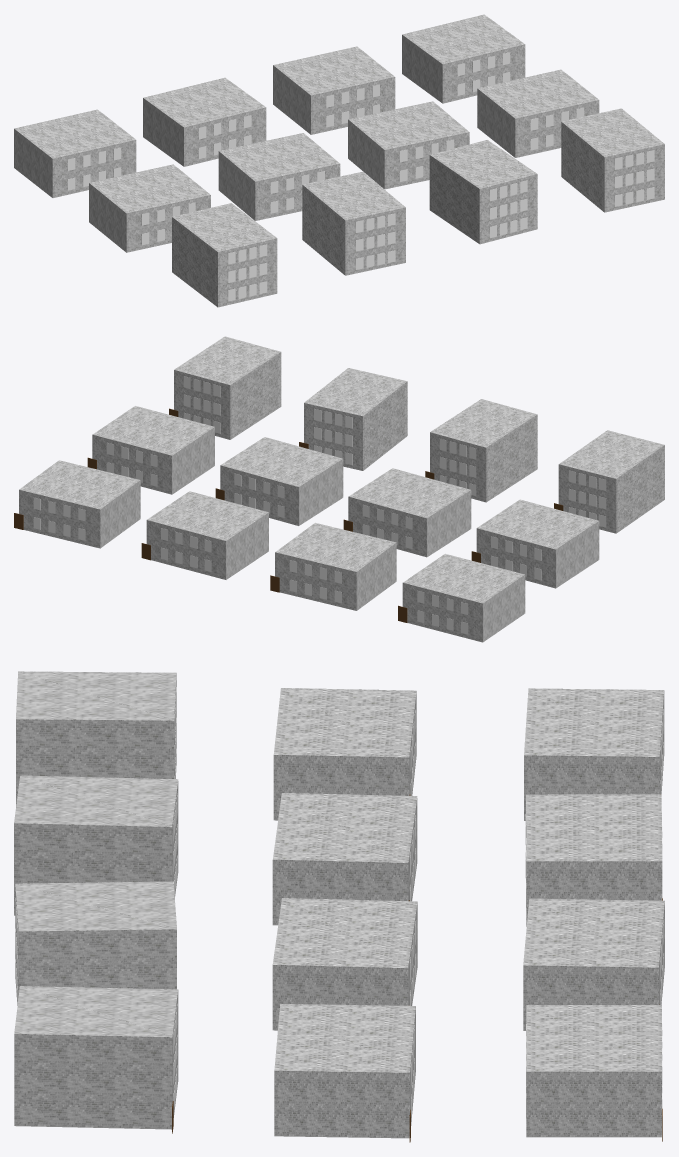
Rendered from bld_mlmr1bsg_cxbd3pn.glb.
3 renders of one model, top to bottom at view 1: azimuth 30°, elevation 25°; view 2: azimuth 150°, elevation 25°; view 3: azimuth 270°, elevation 25°, orthographic. The views are drawn at different scales.
Parts seen in each view (by area): view 1: building-building-1771099703090-13, building-building-1771099703090-11, building-building-1771099703090-14, building-building-1771099703090-12, building-building-1771099703090-4, building-building-1771099703090-2, building-building-1771099703090-1, building-building-1771099703090-3, building-building-1771099703090-9, building-building-1771099703090-7, building-building-1771099703090-6, building-building-1771099703090-8; view 2: building-building-1771099703090-12, building-building-1771099703090-14, building-building-1771099703090-1, building-building-1771099703090-3, building-building-1771099703090-4, building-building-1771099703090-2, building-building-1771099703090-11, building-building-1771099703090-7, building-building-1771099703090-8, building-building-1771099703090-6, building-building-1771099703090-13, building-building-1771099703090-9; view 3: building-building-1771099703090-14, building-building-1771099703090-9, building-building-1771099703090-4, building-building-1771099703090-12, building-building-1771099703090-13, building-building-1771099703090-11, building-building-1771099703090-7, building-building-1771099703090-8, building-building-1771099703090-6, building-building-1771099703090-3, building-building-1771099703090-1, building-building-1771099703090-2.
Boxes of the visible parts, x1,y1,x2,y2 form: building-building-1771099703090-13: (429, 140, 537, 244); building-building-1771099703090-11: (172, 203, 277, 307); building-building-1771099703090-14: (561, 108, 664, 212); building-building-1771099703090-12: (302, 171, 405, 275); building-building-1771099703090-4: (402, 14, 525, 103); building-building-1771099703090-2: (143, 77, 266, 166); building-building-1771099703090-1: (14, 109, 136, 197); building-building-1771099703090-3: (273, 46, 395, 134); building-building-1771099703090-9: (477, 69, 599, 157); building-building-1771099703090-7: (218, 133, 340, 220); building-building-1771099703090-6: (89, 164, 210, 252); building-building-1771099703090-8: (348, 101, 469, 189); building-building-1771099703090-12: (425, 399, 537, 502); building-building-1771099703090-14: (169, 336, 281, 439); building-building-1771099703090-1: (398, 553, 525, 642); building-building-1771099703090-3: (141, 491, 268, 579); building-building-1771099703090-4: (14, 460, 140, 548); building-building-1771099703090-2: (270, 522, 396, 610); building-building-1771099703090-11: (554, 430, 664, 533); building-building-1771099703090-7: (343, 468, 471, 557); building-building-1771099703090-8: (215, 437, 343, 525); building-building-1771099703090-6: (471, 499, 599, 588); building-building-1771099703090-13: (299, 368, 407, 470); building-building-1771099703090-9: (87, 406, 214, 494); building-building-1771099703090-14: (14, 986, 178, 1133); building-building-1771099703090-9: (274, 1003, 415, 1142); building-building-1771099703090-4: (526, 1005, 662, 1141); building-building-1771099703090-12: (14, 775, 178, 915); building-building-1771099703090-13: (15, 881, 176, 1005); building-building-1771099703090-11: (16, 671, 176, 806); building-building-1771099703090-7: (272, 793, 417, 925); building-building-1771099703090-8: (272, 898, 417, 1030); building-building-1771099703090-6: (273, 688, 416, 820); building-building-1771099703090-3: (523, 898, 664, 1030); building-building-1771099703090-1: (524, 688, 664, 820); building-building-1771099703090-2: (526, 794, 662, 926).
Bounding box in the file's own units: 81.28 × 9.03 × 57.53.
Materials: 60 (12 with a texture image).
